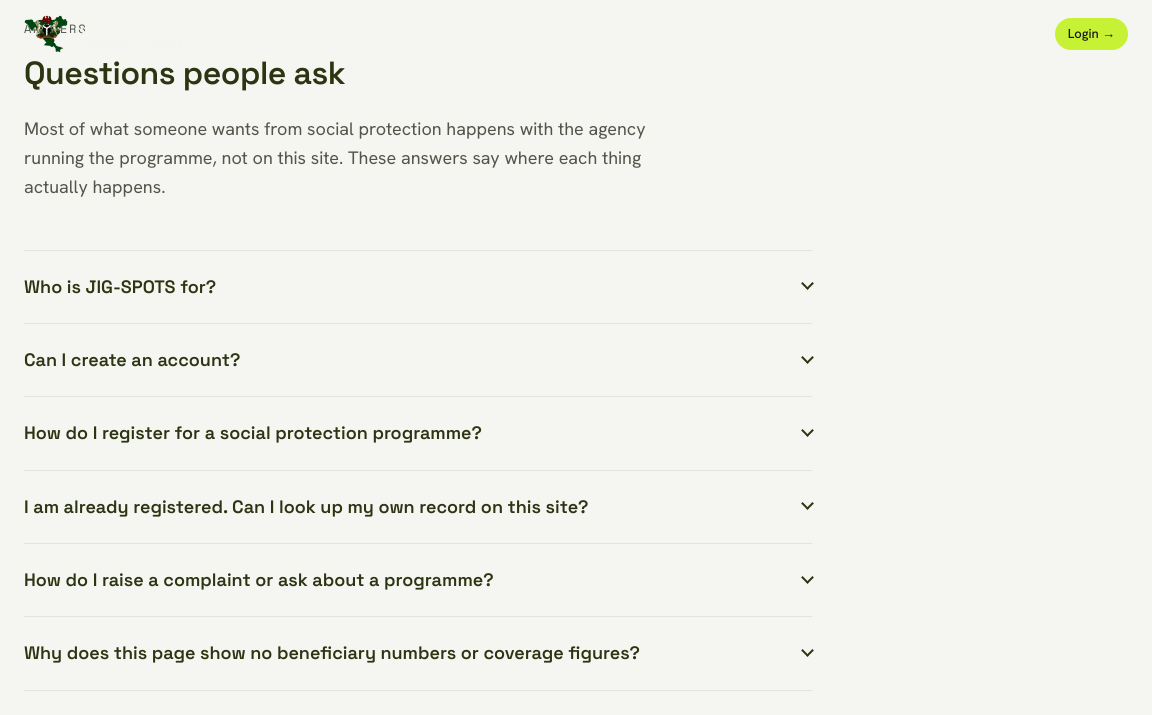
Test: public landing page › answers the questions a visitor actually arrives with, collapsed until asked
The width and height of the screenshot is (1152, 715).
(page scrolled)
Expected: the text "Can I create an account?" is shown, [24,324,812,397]
Click the heading "Can I create an account?" at (132, 360), box [24,348,814,371]
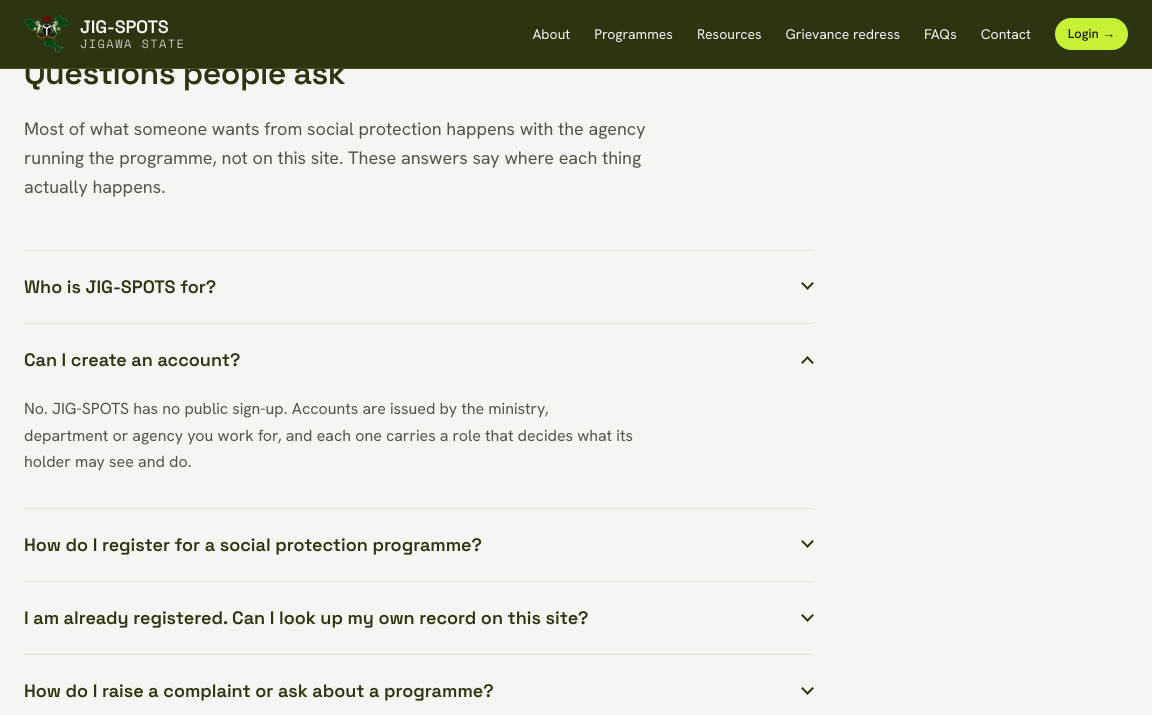
Expected: the text "no public sign-up" is shown, [24,398,633,472]
